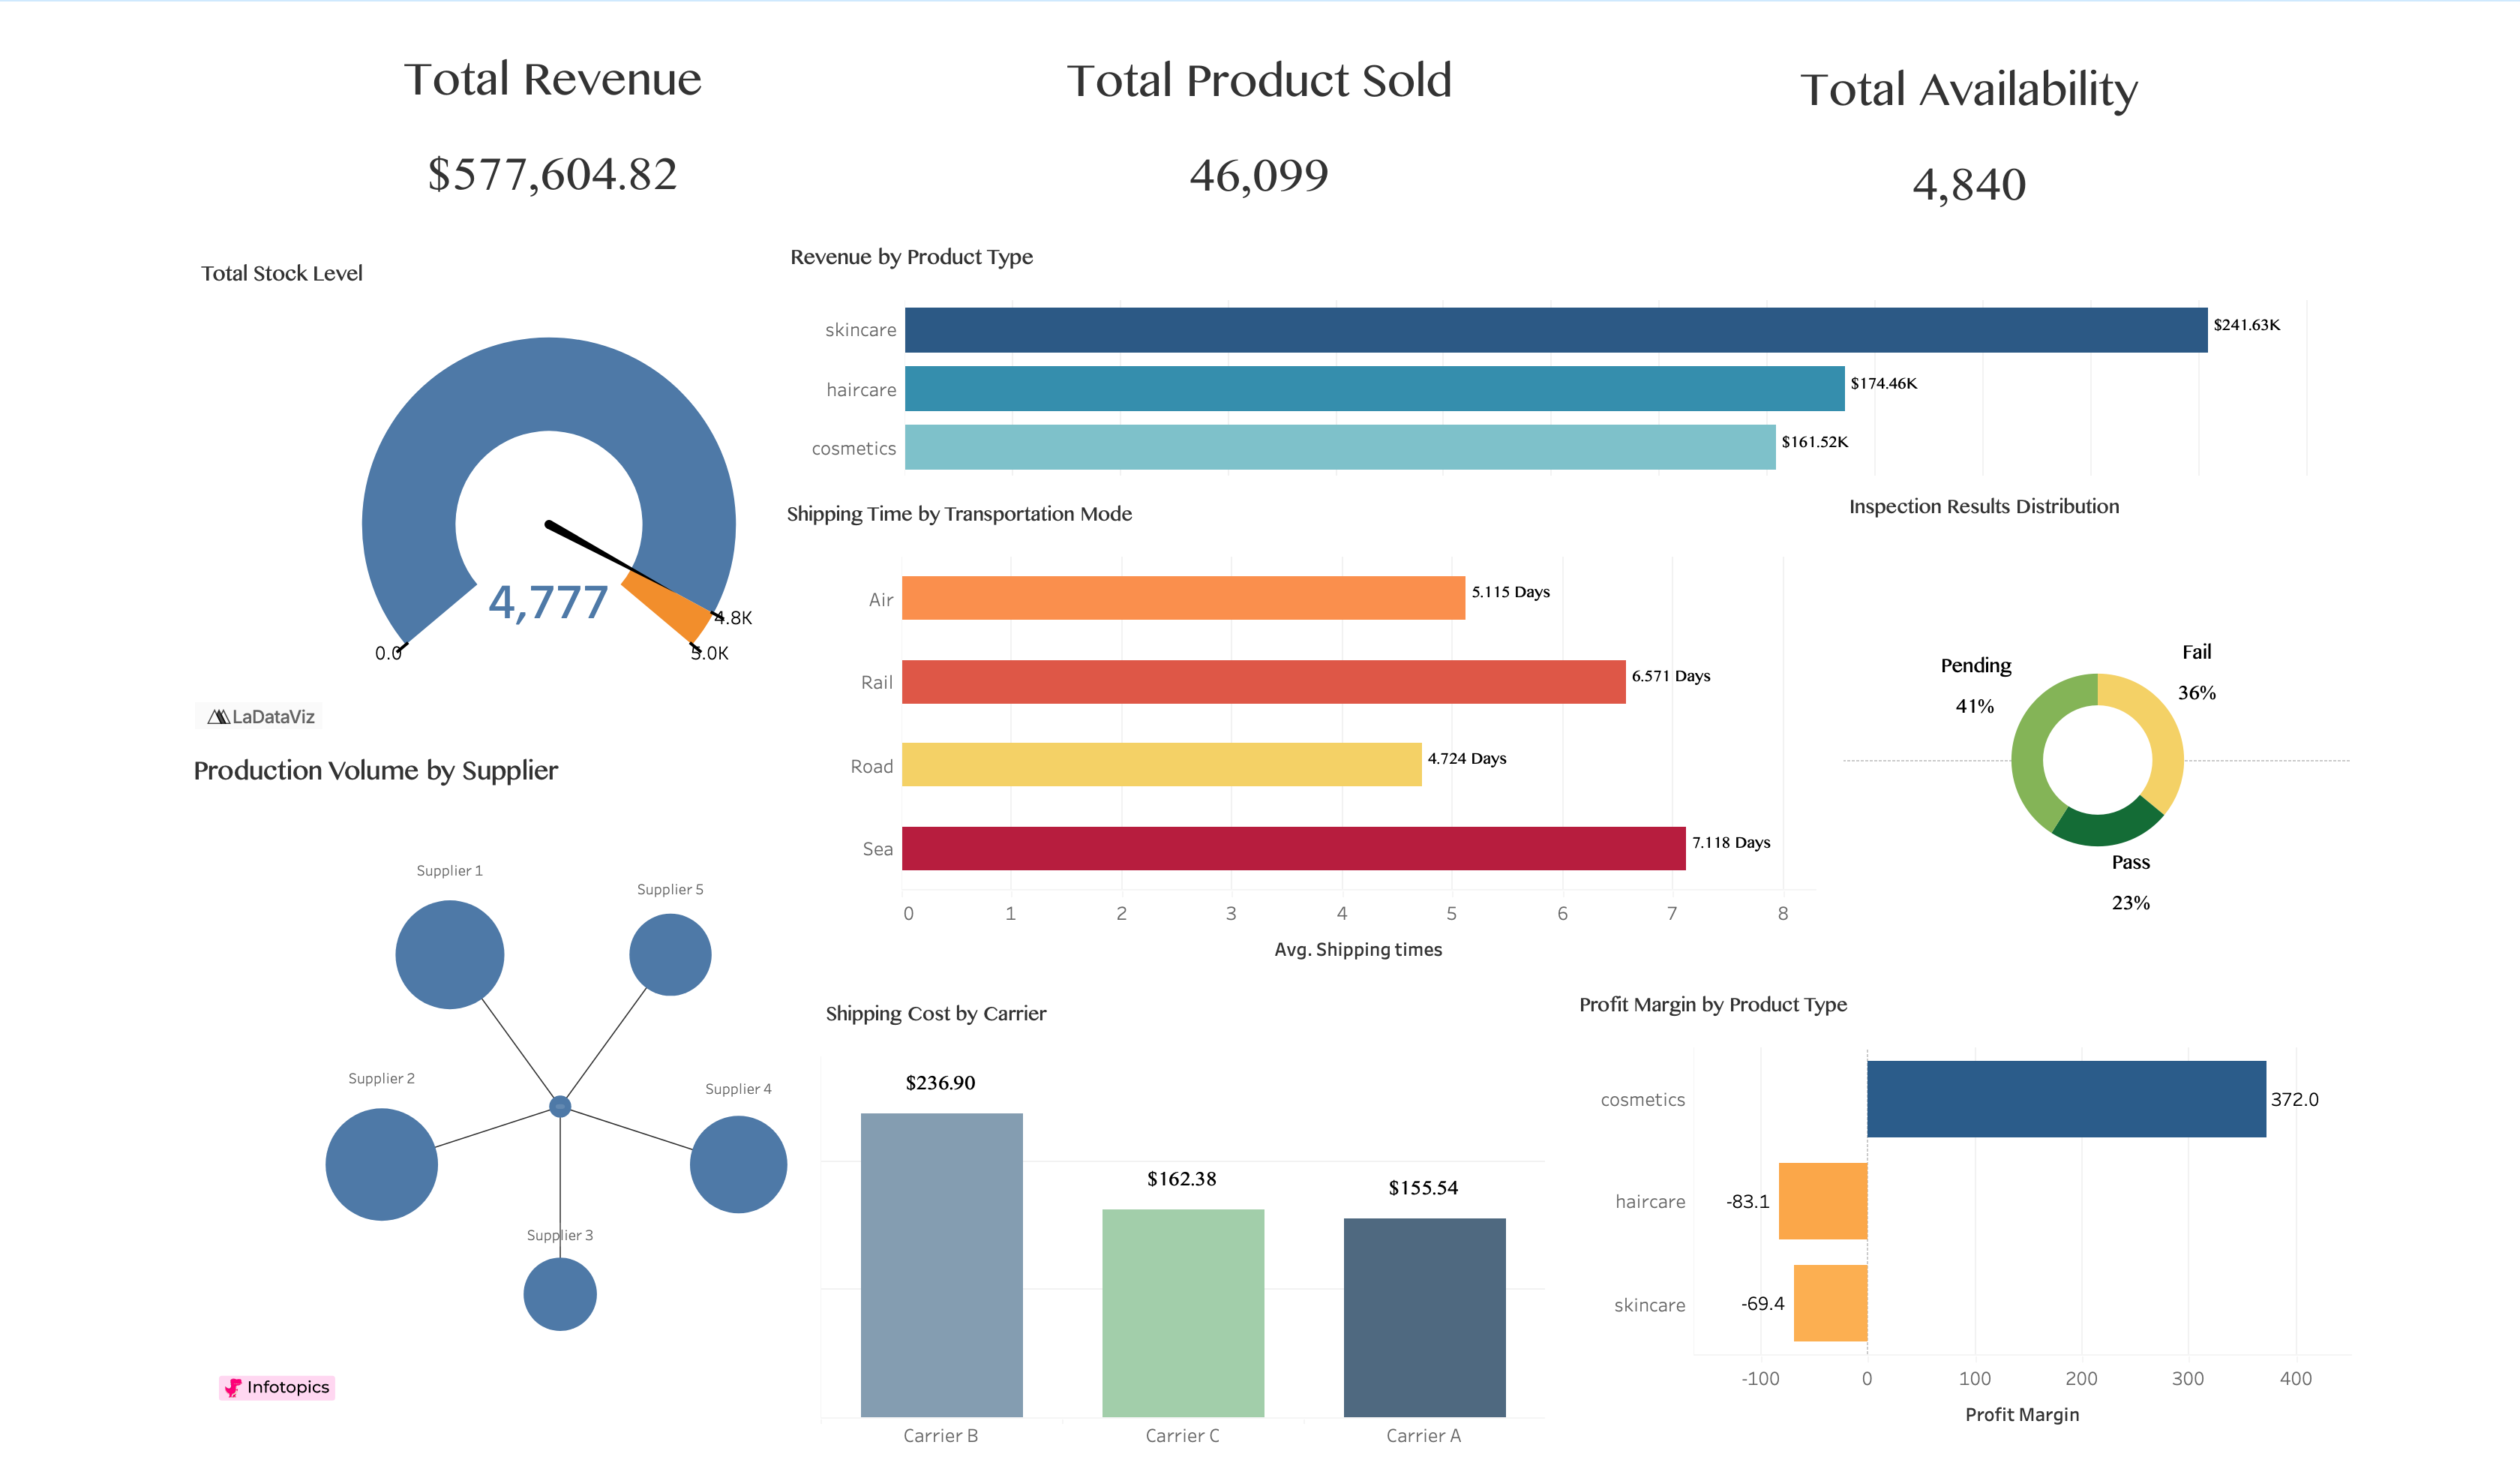

This screenshot's page, from the dashboard's own definition file:
{"tool":"tableau","page":{"name":"Dashboard 1","canvas":[1000,1000],"units":"permille","ordinal":0},"visuals":[{"type":"worksheet","title":"KPI - Total Revenue","mark":"Automatic","box":[34.5,3.7,282.1,162.1]},{"type":"worksheet","title":"KPI - Total Products Sold","mark":"Automatic","box":[323.4,5,353.8,162.1]},{"type":"worksheet","title":"KPI - Total Availability","mark":"Automatic","box":[655.9,7.5,341.4,170.8]},{"type":"worksheet","title":"Revenue by Product Type","mark":"Bar","rows":["Product type"],"cols":["Revenue generated"],"box":[281.4,150.9,720.7,168.3]},{"type":"worksheet","title":"Total Stock Level","box":[10.3,162.1,324.8,332.9]},{"type":"worksheet","title":"Inspection Results Distribution","mark":"Pie","rows":["Calculation_421156995291500545","Calculation_421156995291660292"],"box":[768.3,325.4,233.8,337.9]},{"type":"worksheet","title":"Shipping Time by Transportation Mode","mark":"Bar","rows":["Transportation modes"],"cols":["Shipping times"],"box":[280,330.4,475.9,332.9]},{"type":"worksheet","title":"Sheet 16","box":[6.9,505,338.6,462.6]},{"type":"worksheet","title":"Profit Margin by Product Type","mark":"Bar","rows":["Product type"],"cols":["Calculation_210684082154127360"],"box":[644.1,670.8,357.9,315.5]},{"type":"worksheet","title":"Shipping Cost by Carrier","mark":"Automatic","rows":["Shipping costs"],"cols":["Shipping carriers"],"box":[297.9,677.1,333.1,318]}]}

Visuals, with their boxes on the dashboard's canvas, which has no fixed pixel size, in thousandths of its width and height (x1, y1, x2, y2). These are canvas units, not pixel positions in the 2520x1472 screenshot, which may show the page scaled, cropped or inside an application window:
"KPI - Total Revenue" worksheet: bbox=[34, 4, 317, 166]
"KPI - Total Products Sold" worksheet: bbox=[323, 5, 677, 167]
"KPI - Total Availability" worksheet: bbox=[656, 8, 997, 178]
"Revenue by Product Type" worksheet (Bar marks): bbox=[281, 151, 1002, 319]
"Total Stock Level" worksheet: bbox=[10, 162, 335, 495]
"Inspection Results Distribution" worksheet (Pie marks): bbox=[768, 325, 1002, 663]
"Shipping Time by Transportation Mode" worksheet (Bar marks): bbox=[280, 330, 756, 663]
"Sheet 16" worksheet: bbox=[7, 505, 346, 968]
"Profit Margin by Product Type" worksheet (Bar marks): bbox=[644, 671, 1002, 986]
"Shipping Cost by Carrier" worksheet: bbox=[298, 677, 631, 995]
